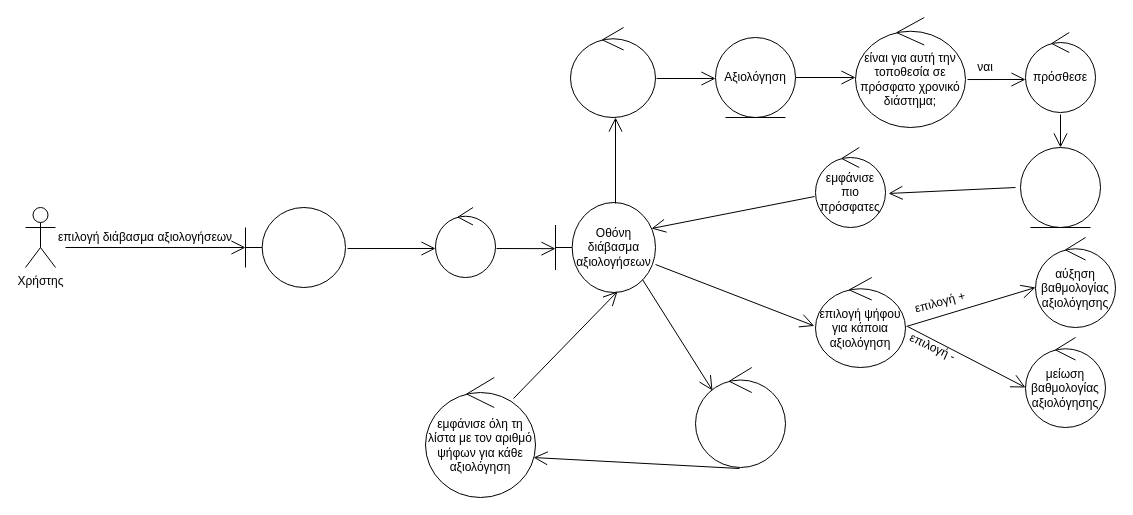
This 1133x515 diagram has some shape labels left out. The centre of each missing label's shape, as x and y in pixels:
εμφάνισε: point (465, 242)
επιλογή "Δες όλες τις αξιολογήσεις: point (740, 417)
λήψη αξιολογήσεων: point (613, 72)
Λίστα Αξιολογήσεων: point (1060, 187)
Οθόνη χάρτη: point (295, 247)
